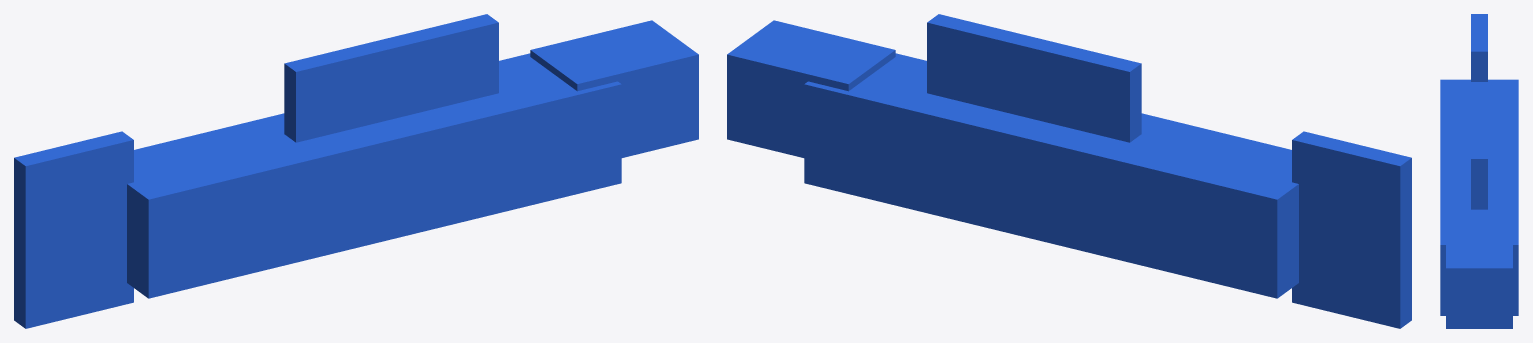
File: fish_sapphire_needlefish.glb
3 views of the same model, side by side, from view 1: azimuth 30°, elevation 25°; view 2: azimuth 150°, elevation 25°; view 3: azimuth 270°, elevation 25° (orthographic). The views are drawn at different scales.
Parts seen in each view (by area): view 1: species.sapphire_needlefish; view 2: species.sapphire_needlefish; view 3: species.sapphire_needlefish.
Boxes of the visible parts, x1,y1,x2,y2 form: species.sapphire_needlefish: (14,14,698,328); species.sapphire_needlefish: (727,14,1411,328); species.sapphire_needlefish: (1440,14,1518,328).
Size of the model in its own units: 0.3 by 0.0835 by 0.0433.
